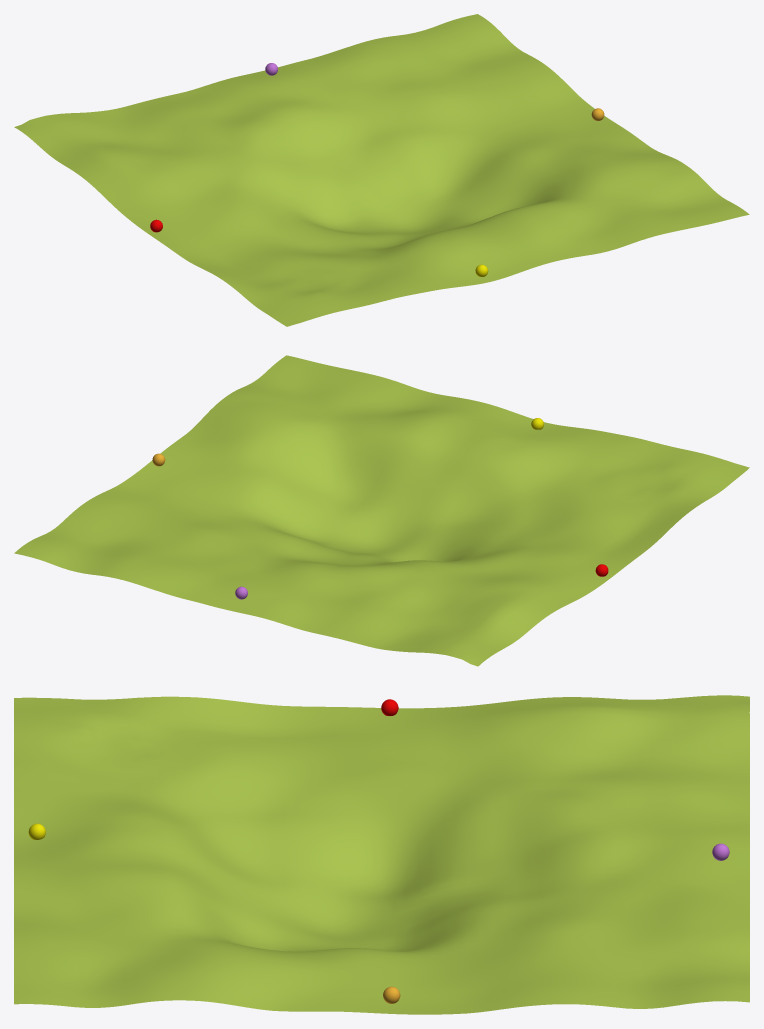
The model's file is marqueurs_bosse_neg2.fbx.
3 views of the same model, one above another, from view 1: azimuth 30°, elevation 25°; view 2: azimuth 150°, elevation 25°; view 3: azimuth 270°, elevation 25° (orthographic). The views are drawn at different scales.
Parts seen in each view (by area): view 1: bosse_neg2; view 2: bosse_neg2; view 3: bosse_neg2.
Boxes of the visible parts, box(x1,y1,x2,y2) form: bosse_neg2: box(14, 14, 749, 326); bosse_neg2: box(14, 355, 749, 666); bosse_neg2: box(14, 695, 749, 1014).
Size of the model in its own units: 709 by 89.85 by 720.
